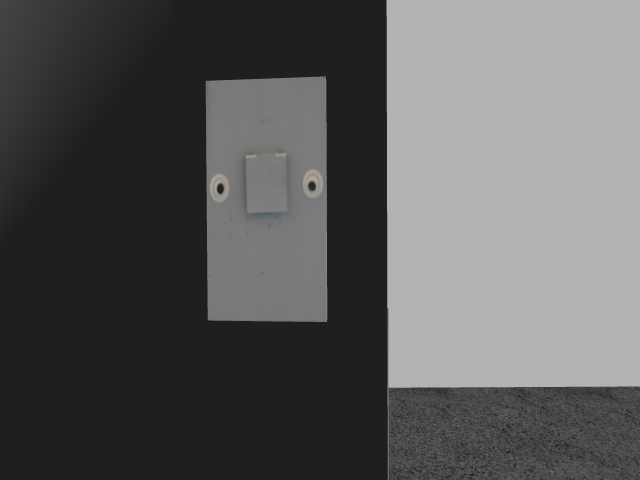facade: (210, 152, 322, 215)
